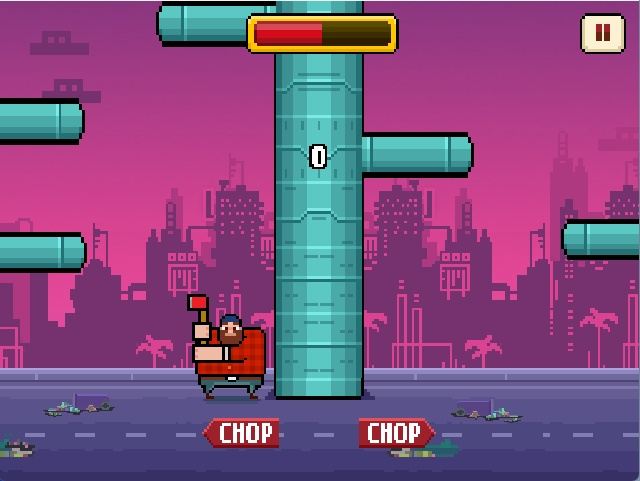right_obs: (360, 128, 477, 183)
timberman: (184, 290, 269, 403)
